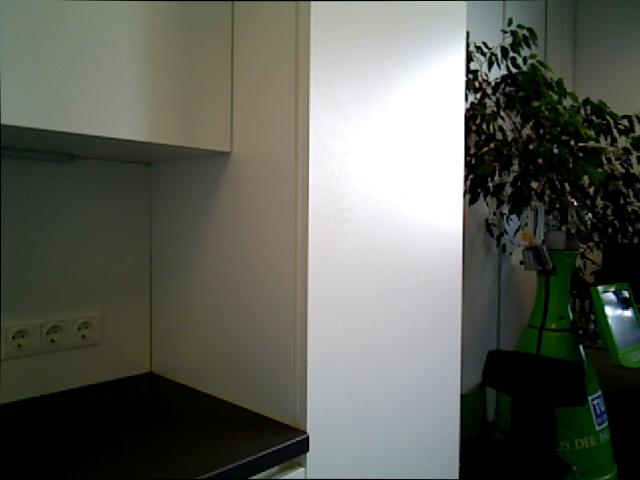carrot: (463, 16, 638, 337)
hot dog: (305, 0, 466, 479)
